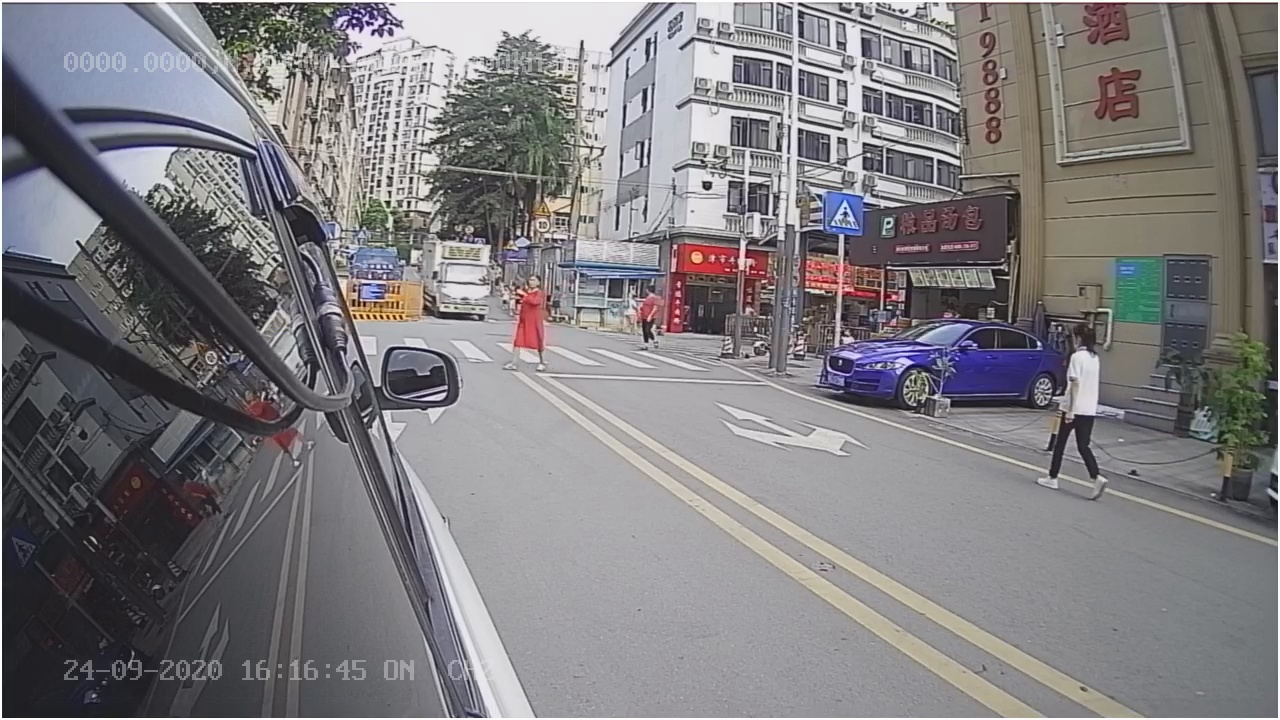person: (1032, 321, 1136, 507)
